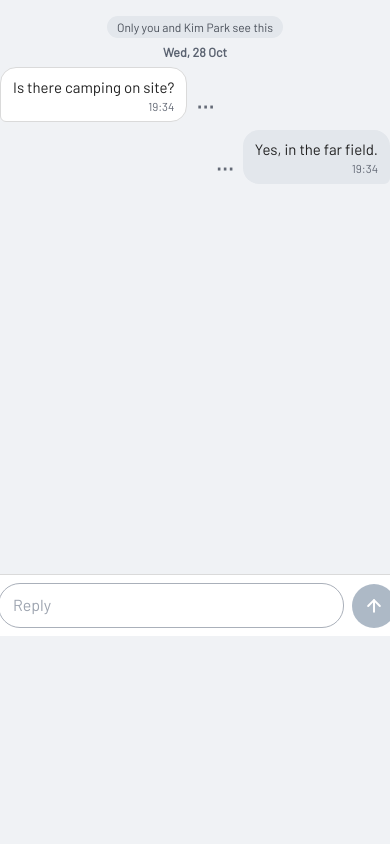
Test: an organiser › blocks a sender from a message's menu, after asking, and says what was blocked
Expected: the text "Is there camping on site?" is shown, [13,78,174,96]
Click the button "⋯" next to "Is there camping on site?" at (205, 106), box [189,90,221,122]
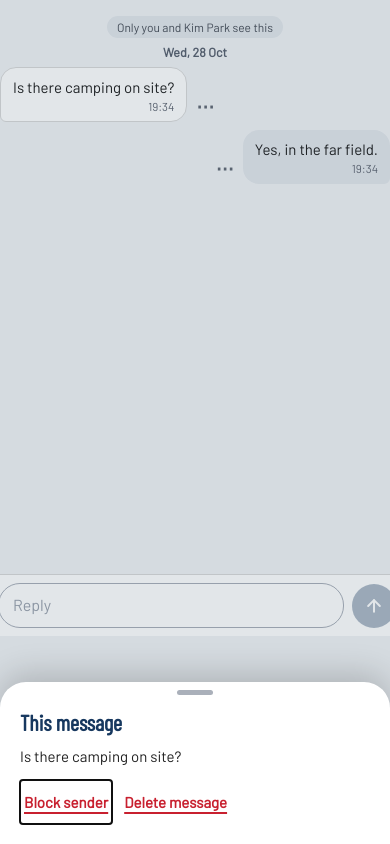
Click the button "Block sender" at (66, 802), box [20,780,112,824]
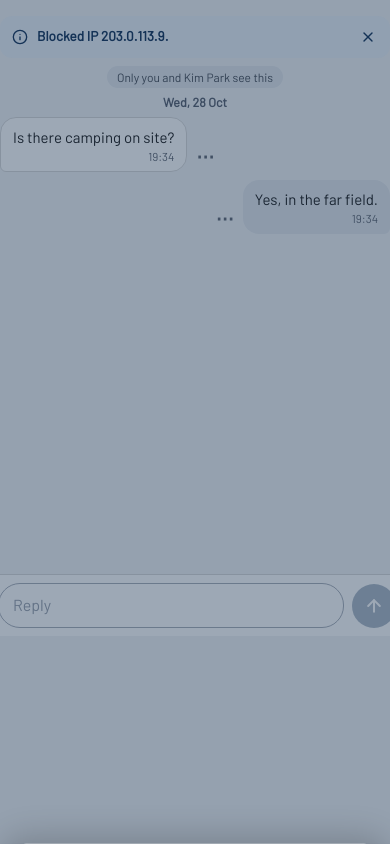
Result: the text "Blocked IP 203.0.113.9." is shown at [37,27,168,46]
